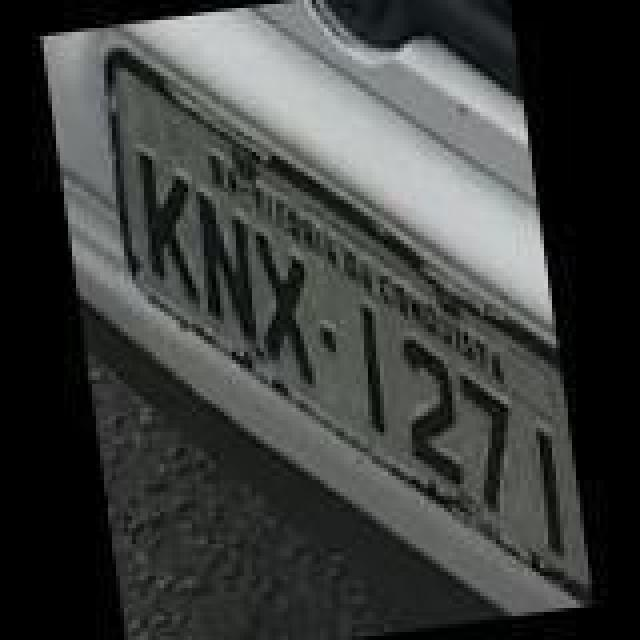1: (348, 296, 404, 440), (526, 418, 578, 558)
2: (390, 330, 474, 502)
7: (452, 362, 532, 526)
K: (128, 132, 208, 316)
N: (190, 174, 266, 346)
X: (248, 216, 328, 392)
